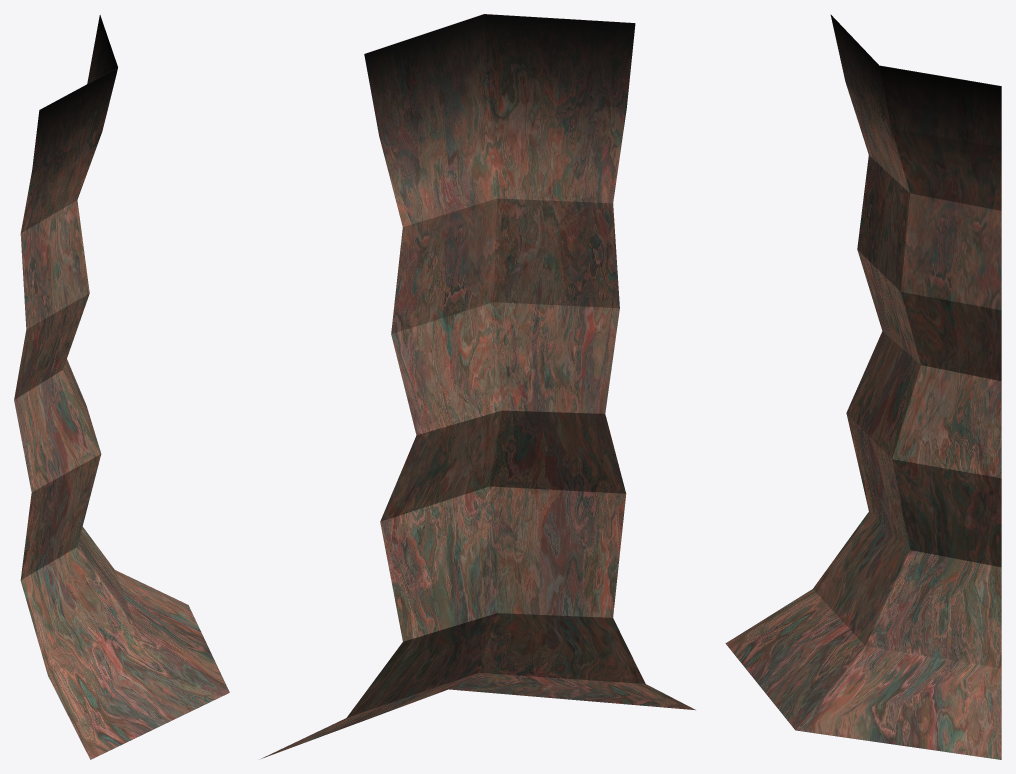
File: cave_walls_plane_003.glb
The picture shows the model from 3 angles, left to right: view 1: azimuth 30°, elevation 25°; view 2: azimuth 150°, elevation 25°; view 3: azimuth 270°, elevation 25°; orthographic projection. The views are drawn at different scales.
Visible parts, largest first — view 1: Plane.003-col; view 2: Plane.003-col; view 3: Plane.003-col.
Boxes of the visible parts, x1=… form: Plane.003-col: x1=14, y1=15, x2=229, y2=759; Plane.003-col: x1=261, y1=14, x2=695, y2=758; Plane.003-col: x1=725, y1=14, x2=1001, y2=759.
Bounding box in the file's own units: 1.6 × 4.04 × 1.6.
Materials: 1 (1 with a texture image).
